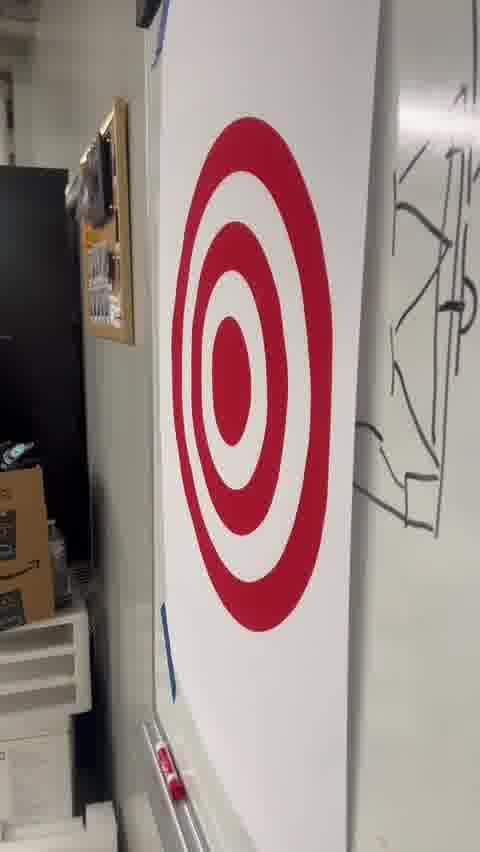target_red: (171, 116, 333, 632)
